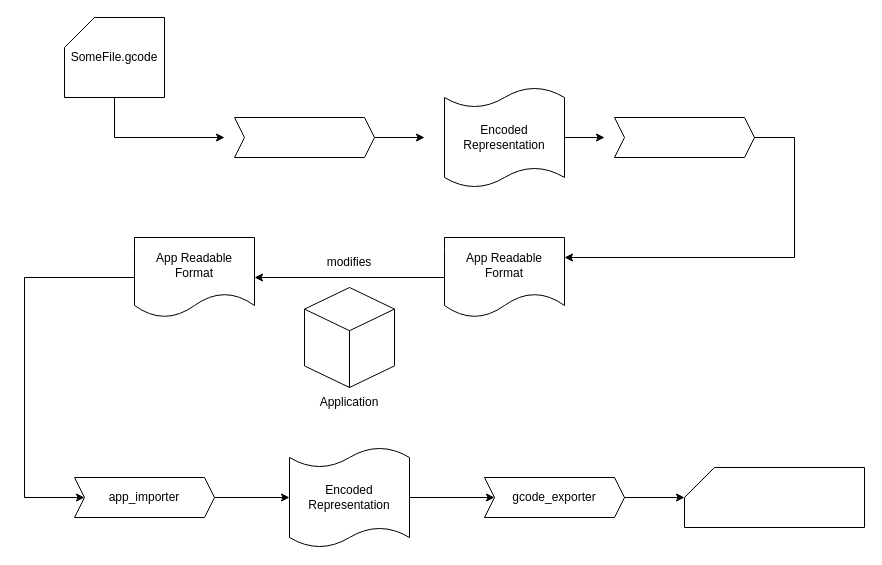
Some shapes in this 882 by 565 pixel diagram are drawn without their labels. The shapes that lost their labels are listed below. From the top down, each one's box as (x1, y1, x2, y2) in pixels, then its label:
(234, 116, 374, 158): gcode_parsing
(614, 116, 754, 158): app_exporter
(684, 466, 864, 528): SomeFile.modified.gcode
